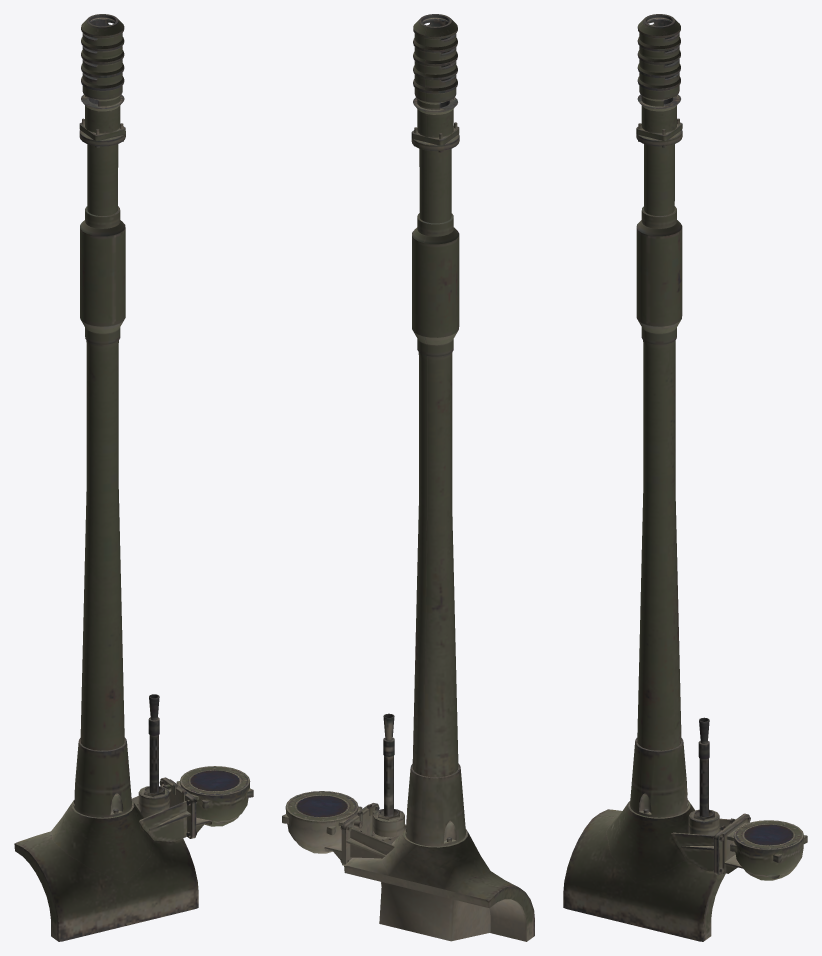
File: Gun_06.glb
The picture shows the model from 3 angles, left to right: view 1: azimuth 30°, elevation 25°; view 2: azimuth 150°, elevation 25°; view 3: azimuth 330°, elevation 25°; orthographic projection. The views are drawn at different scales.
Visible parts, largest first — view 1: set_0_group_0; view 2: set_0_group_0; view 3: set_0_group_0.
Part boxes in pixels (x1,y1,x2,y2): set_0_group_0: (14, 14, 253, 941); set_0_group_0: (282, 14, 534, 941); set_0_group_0: (563, 14, 807, 941).
Bounding box in the file's own units: 1.3 × 5.21 × 0.4947.
Materials: 1 (1 with a texture image).
